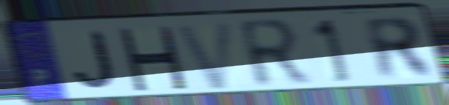1: (310, 18, 354, 84)
H: (115, 26, 190, 91)
J: (71, 29, 120, 93)
R: (234, 16, 314, 91), (359, 15, 439, 82)
V: (173, 19, 238, 92)
